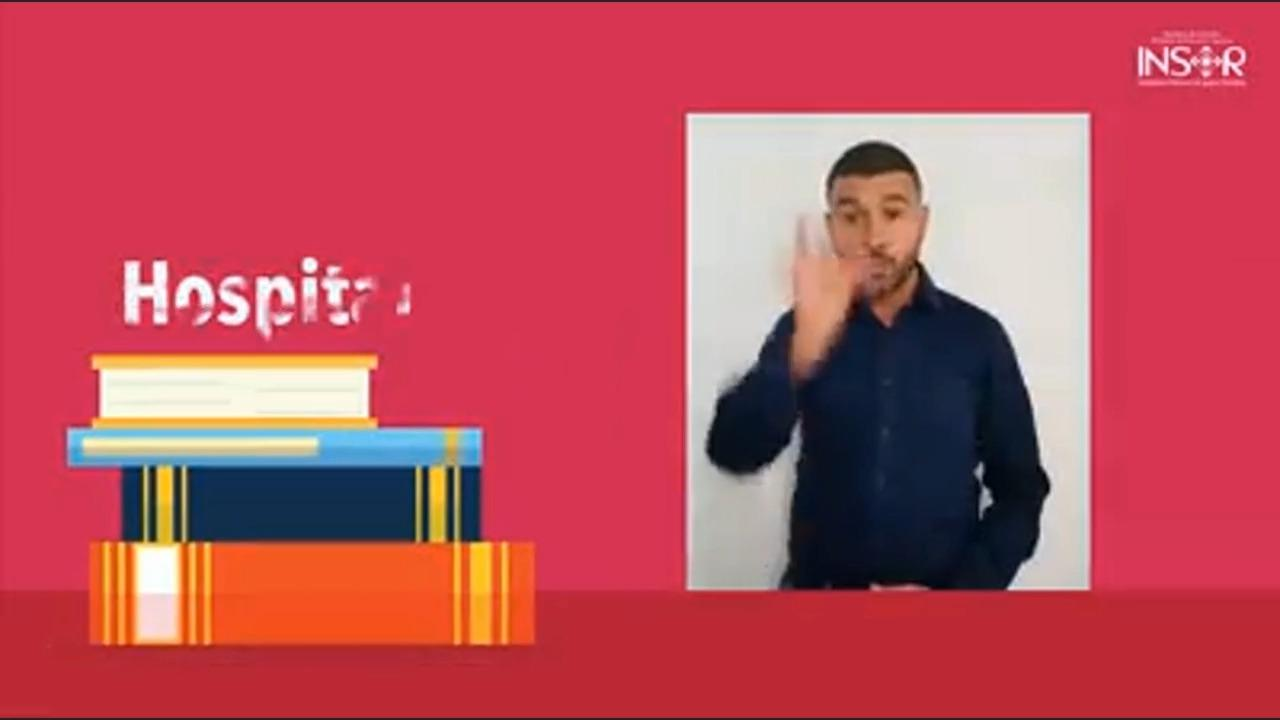Hospital: (704, 130, 1062, 570)
